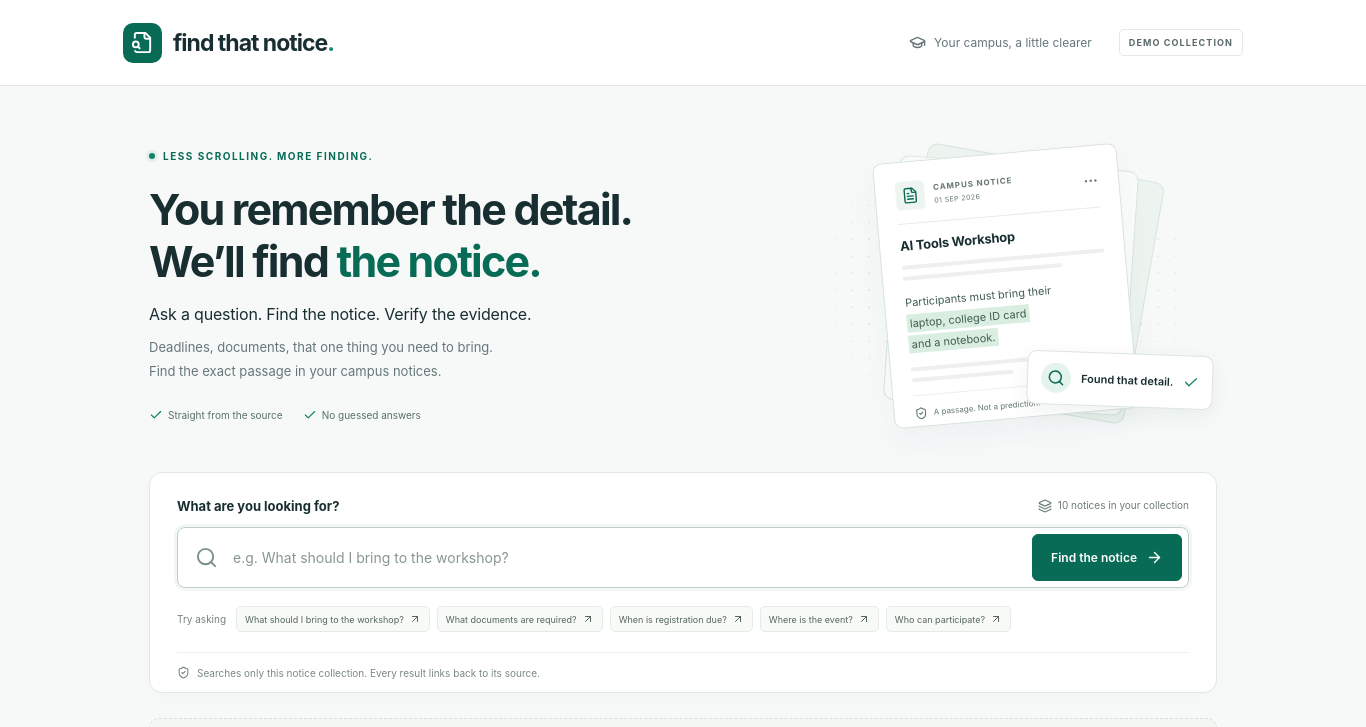
Scenario: Evidence search › handles non-JSON server failure and allows retry
Type "workshop" into the field at (625, 558), box 231,536 -> 1019,580
Then press Enter
(page scrolled)
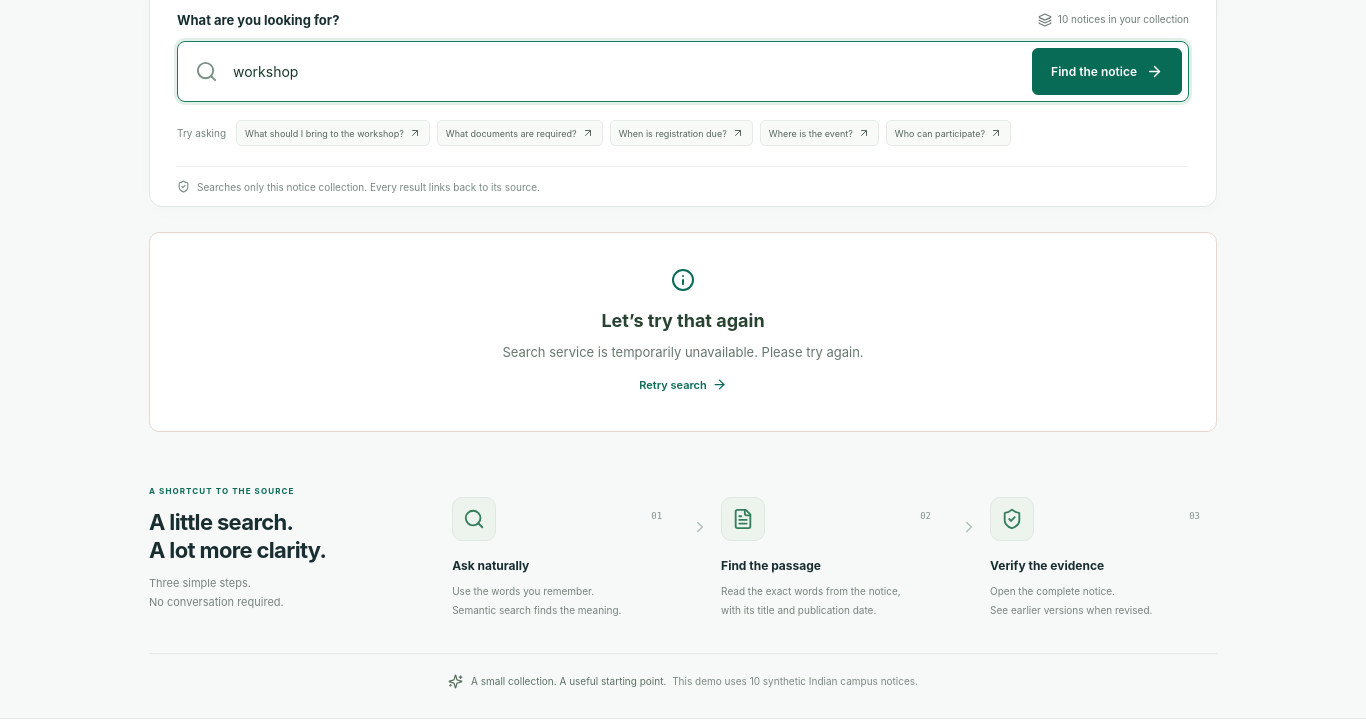
Expected: the text "Search service is temporarily unavailable. Please try again." is shown, 502,344 -> 864,360
Click the button "Retry search" at (683, 385), box 635,373 -> 731,396
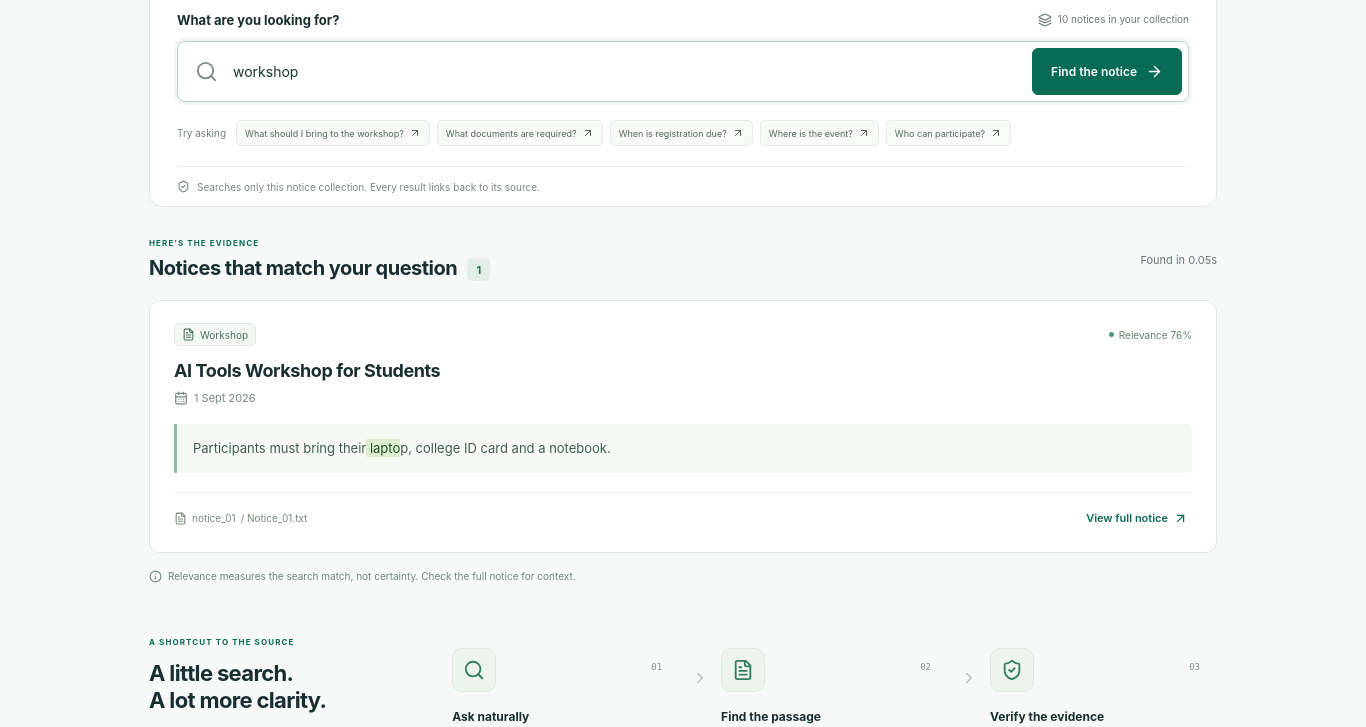
Expected: the heading "AI Tools Workshop for Students" is shown, 174,360 -> 440,381
Expected: the message is gone
